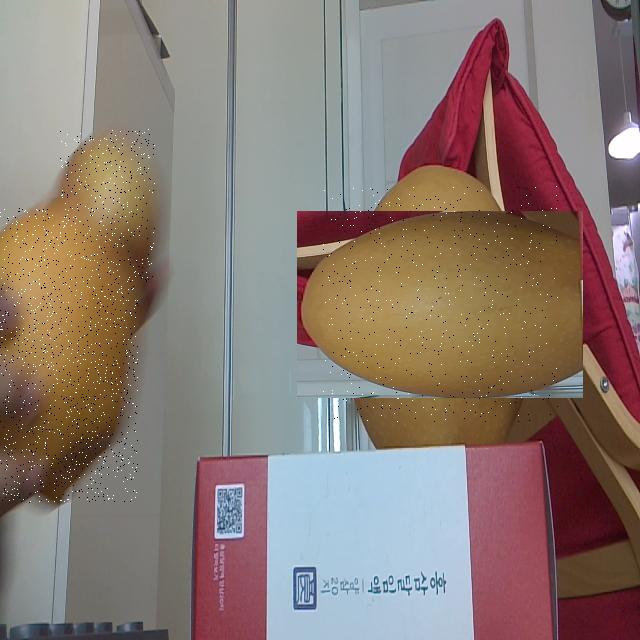apple: (59, 129, 155, 283)
pear: (322, 186, 558, 422), (0, 208, 138, 503)
